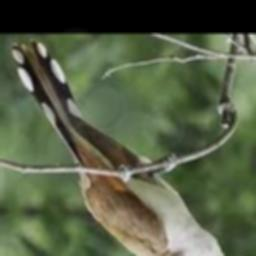Cuckoo: (10, 39, 248, 256)
